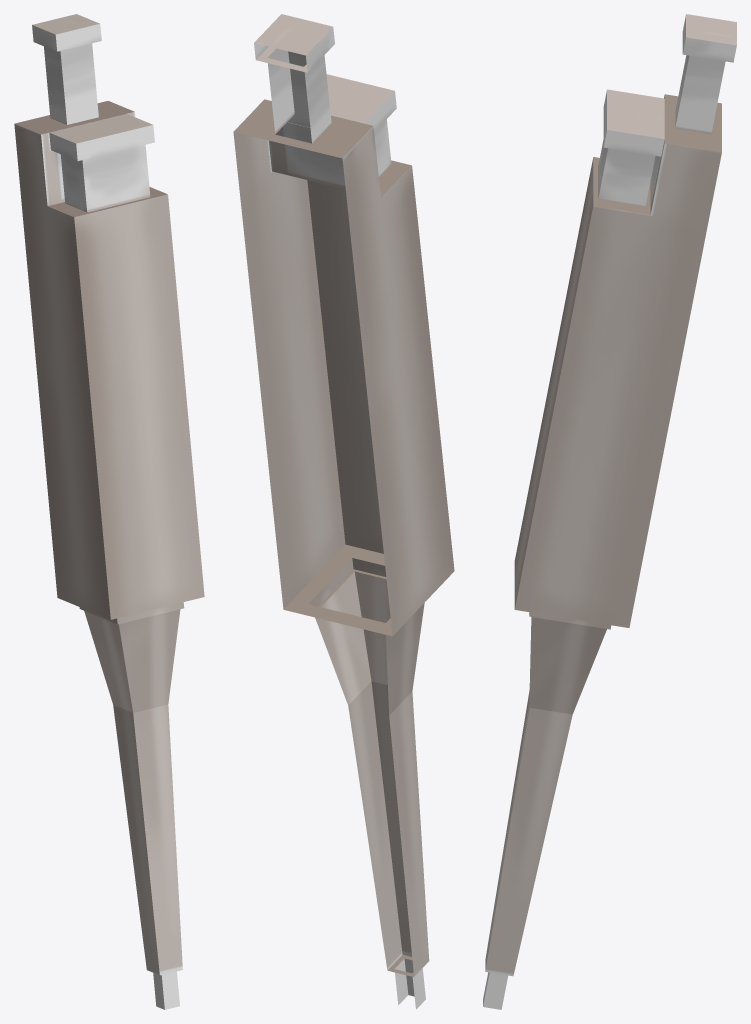
The model's file is SM_MICROPIPETTE_white.FBX.
The picture shows the model from 3 angles, left to right: view 1: azimuth 30°, elevation 25°; view 2: azimuth 150°, elevation 25°; view 3: azimuth 270°, elevation 25°; orthographic projection. The views are drawn at different scales.
Parts seen in each view (by area): view 1: MICROPIPETTE_white; view 2: MICROPIPETTE_white; view 3: MICROPIPETTE_white.
Boxes of the visible parts, bbox=[...] form: MICROPIPETTE_white: bbox=[14, 14, 204, 1009]; MICROPIPETTE_white: bbox=[233, 14, 454, 1009]; MICROPIPETTE_white: bbox=[483, 14, 736, 1009].
Bounding box in the file's own units: 13.84 × 129 × 30.17.
Materials: 1 (1 with a texture image).
